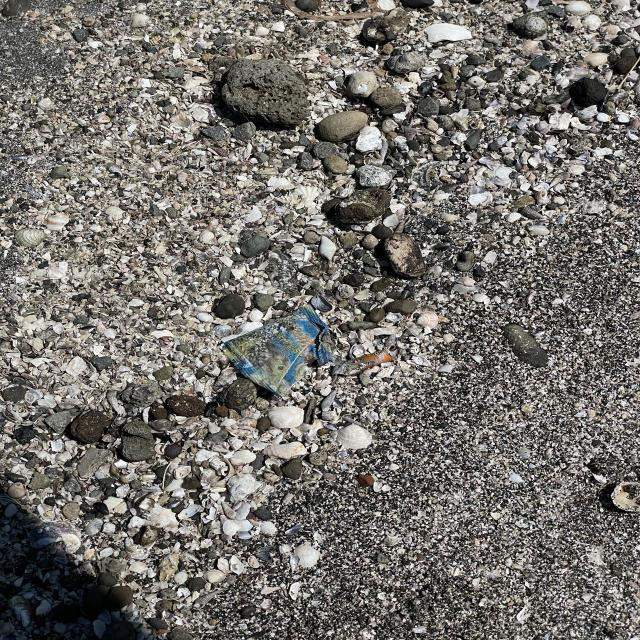plastic_waste: (221, 299, 334, 401)
